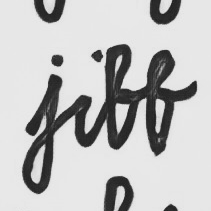b: (141, 48, 180, 157), (104, 42, 138, 152)
i: (72, 48, 104, 150)
j: (19, 53, 67, 195)
